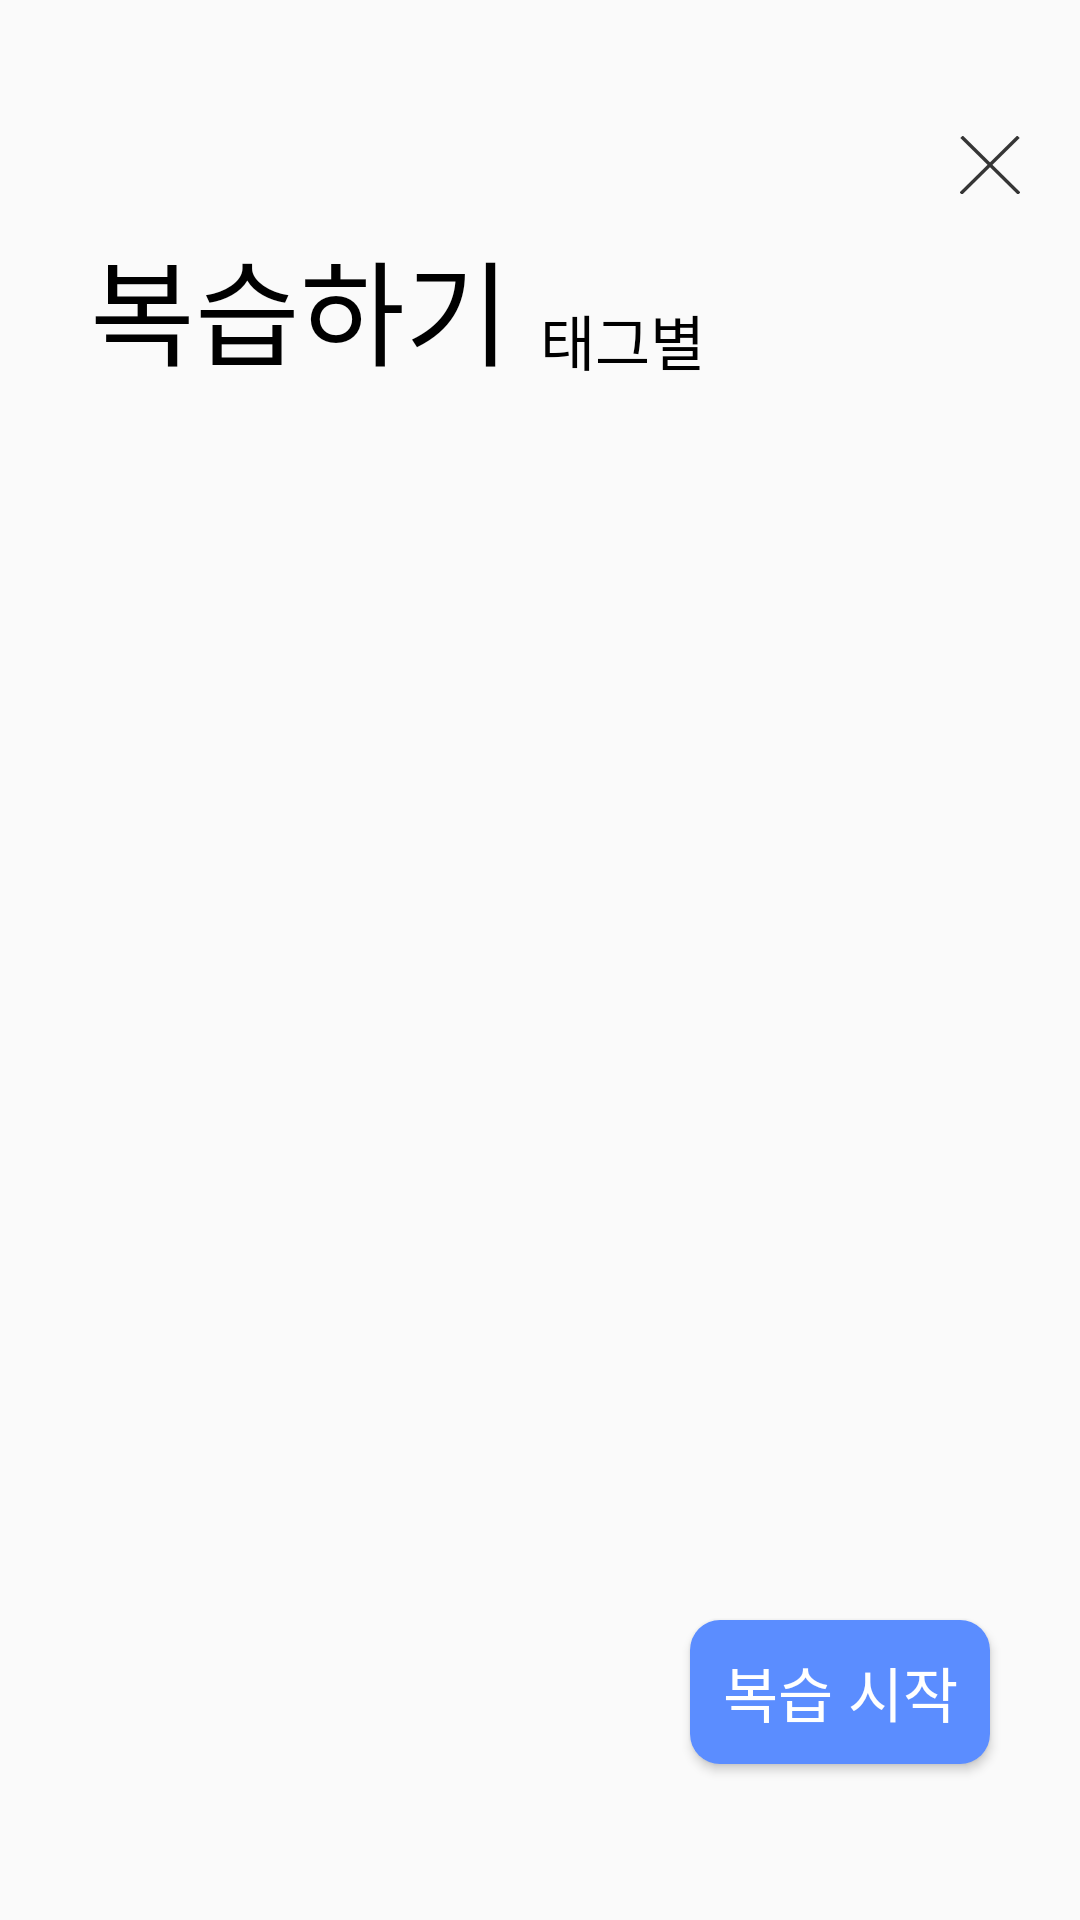

Icon click points for this 1080px×1920px phone screenshot, format point (x, y):
close: point (990, 165)
